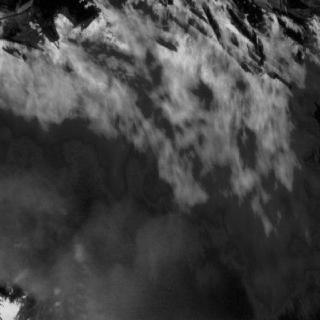Fire: (2, 2, 320, 300)
